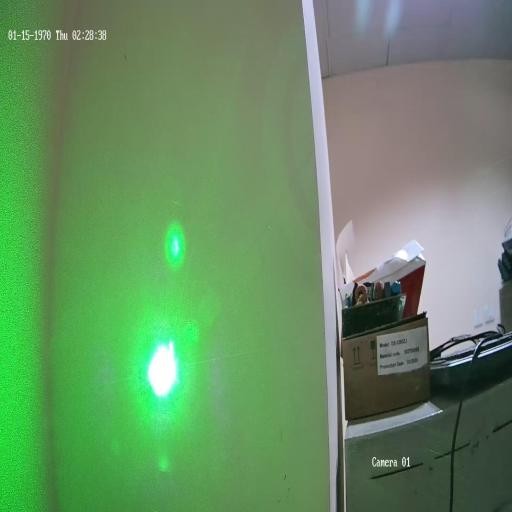laser: (140, 322, 183, 414)
